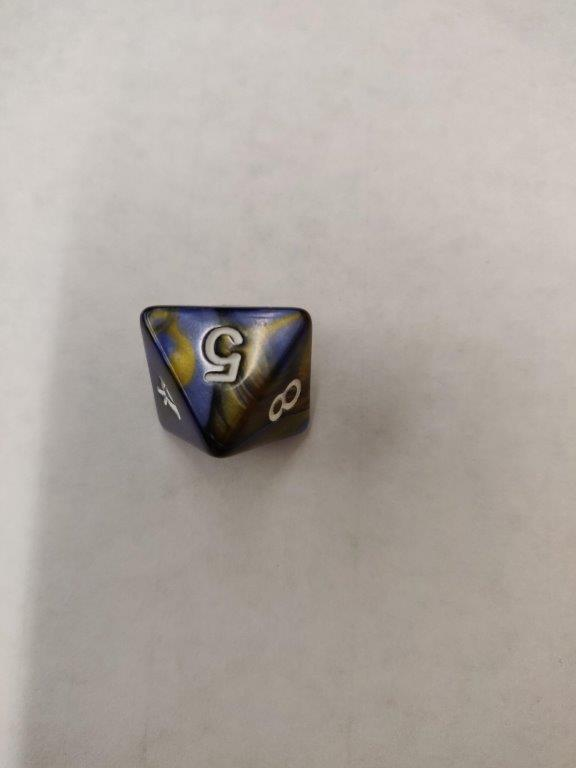d8-5: (139, 301, 318, 451)
